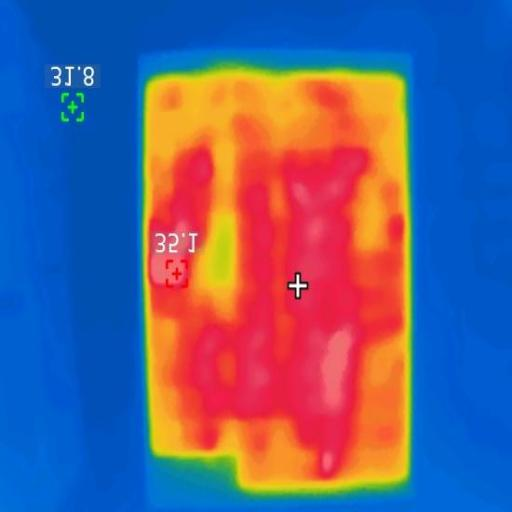hotspot: (245, 150, 360, 254), (152, 144, 216, 319), (310, 314, 361, 476), (199, 329, 272, 411)
